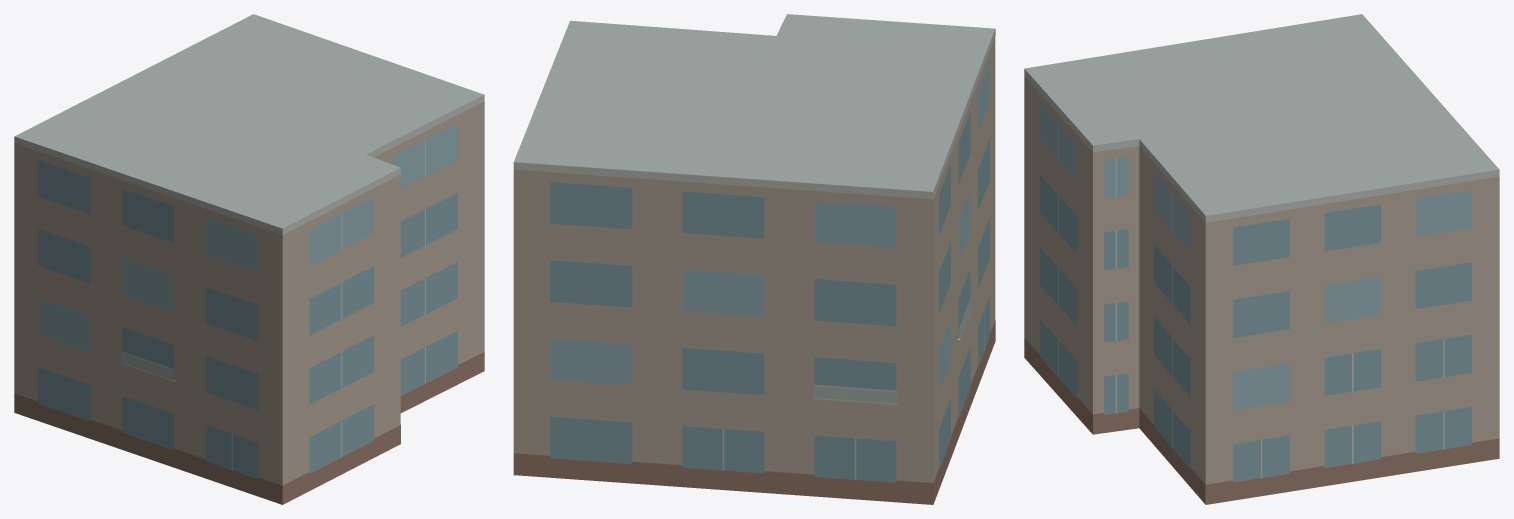
File: survey-upis-32974016.glb
The picture shows the model from 3 angles, left to right: view 1: azimuth 30°, elevation 25°; view 2: azimuth 150°, elevation 25°; view 3: azimuth 270°, elevation 25°; orthographic projection. The views are drawn at different scales.
Parts seen in each view (by area): view 1: survey-upis-32974016.tmp; view 2: survey-upis-32974016.tmp; view 3: survey-upis-32974016.tmp.
Boxes of the visible parts, x1,y1,x2,y2 form: survey-upis-32974016.tmp: (14,14,484,504); survey-upis-32974016.tmp: (513,14,995,504); survey-upis-32974016.tmp: (1024,14,1499,504).
Size of the model in its own units: 15.29 by 10.2 by 15.21.
